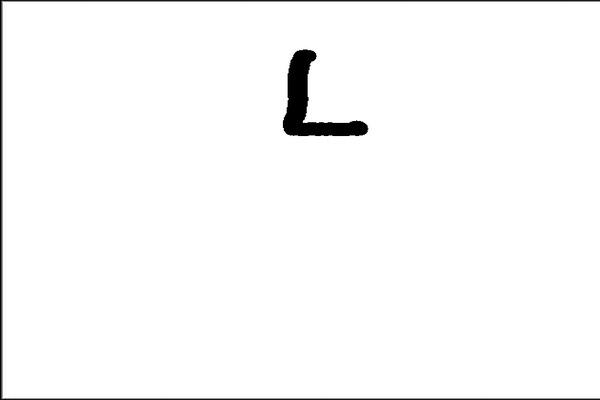L: (271, 43, 374, 143)
